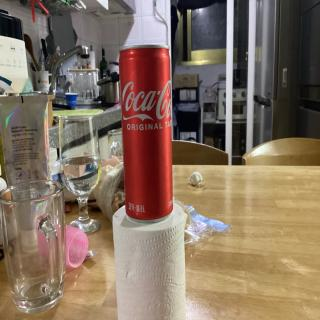cocacola: (116, 38, 178, 226)
